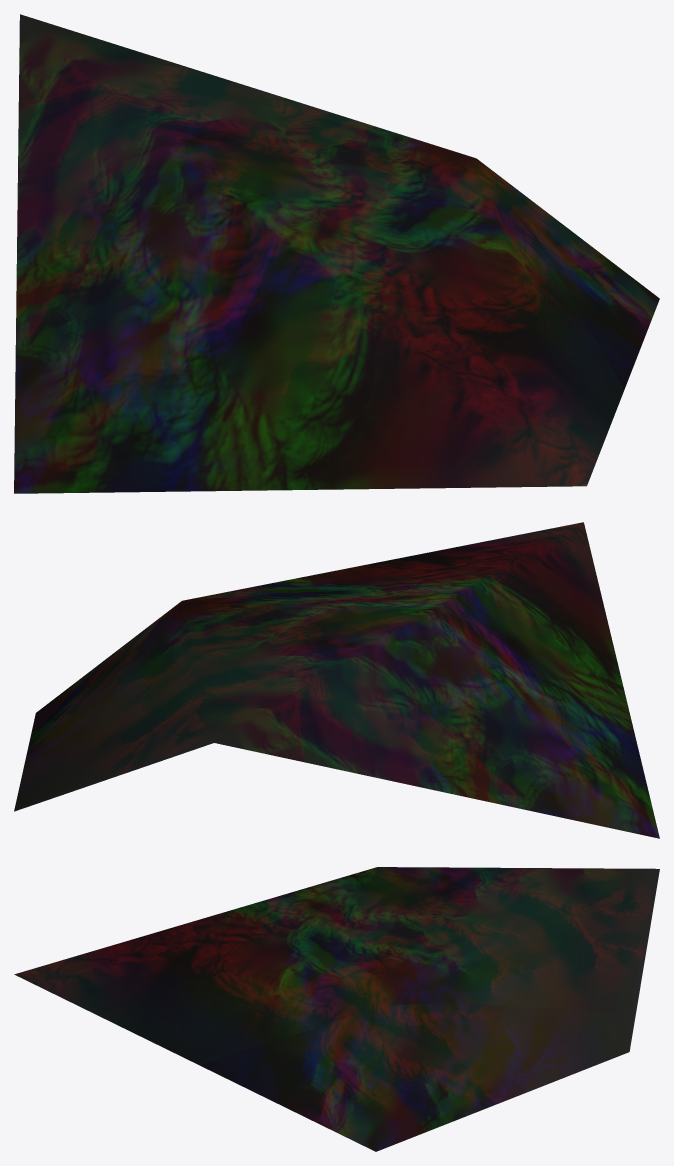
Rendered from DeadOak_Detail.fbx.
The picture shows the model from 3 angles, top to bottom: view 1: azimuth 30°, elevation 25°; view 2: azimuth 150°, elevation 25°; view 3: azimuth 270°, elevation 25°; orthographic projection. The views are drawn at different scales.
Parts seen in each view (by area): view 1: Plane_003; view 2: Plane_003; view 3: Plane_003.
Part boxes in pixels (<box>): Plane_003: <box>14,14,659,493</box>; Plane_003: <box>14,522,659,838</box>; Plane_003: <box>14,867,659,1151</box>.
Size of the model in its own units: 1.25 by 0.407 by 1.58.
